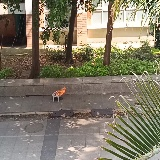fire: (56, 85, 66, 95)
